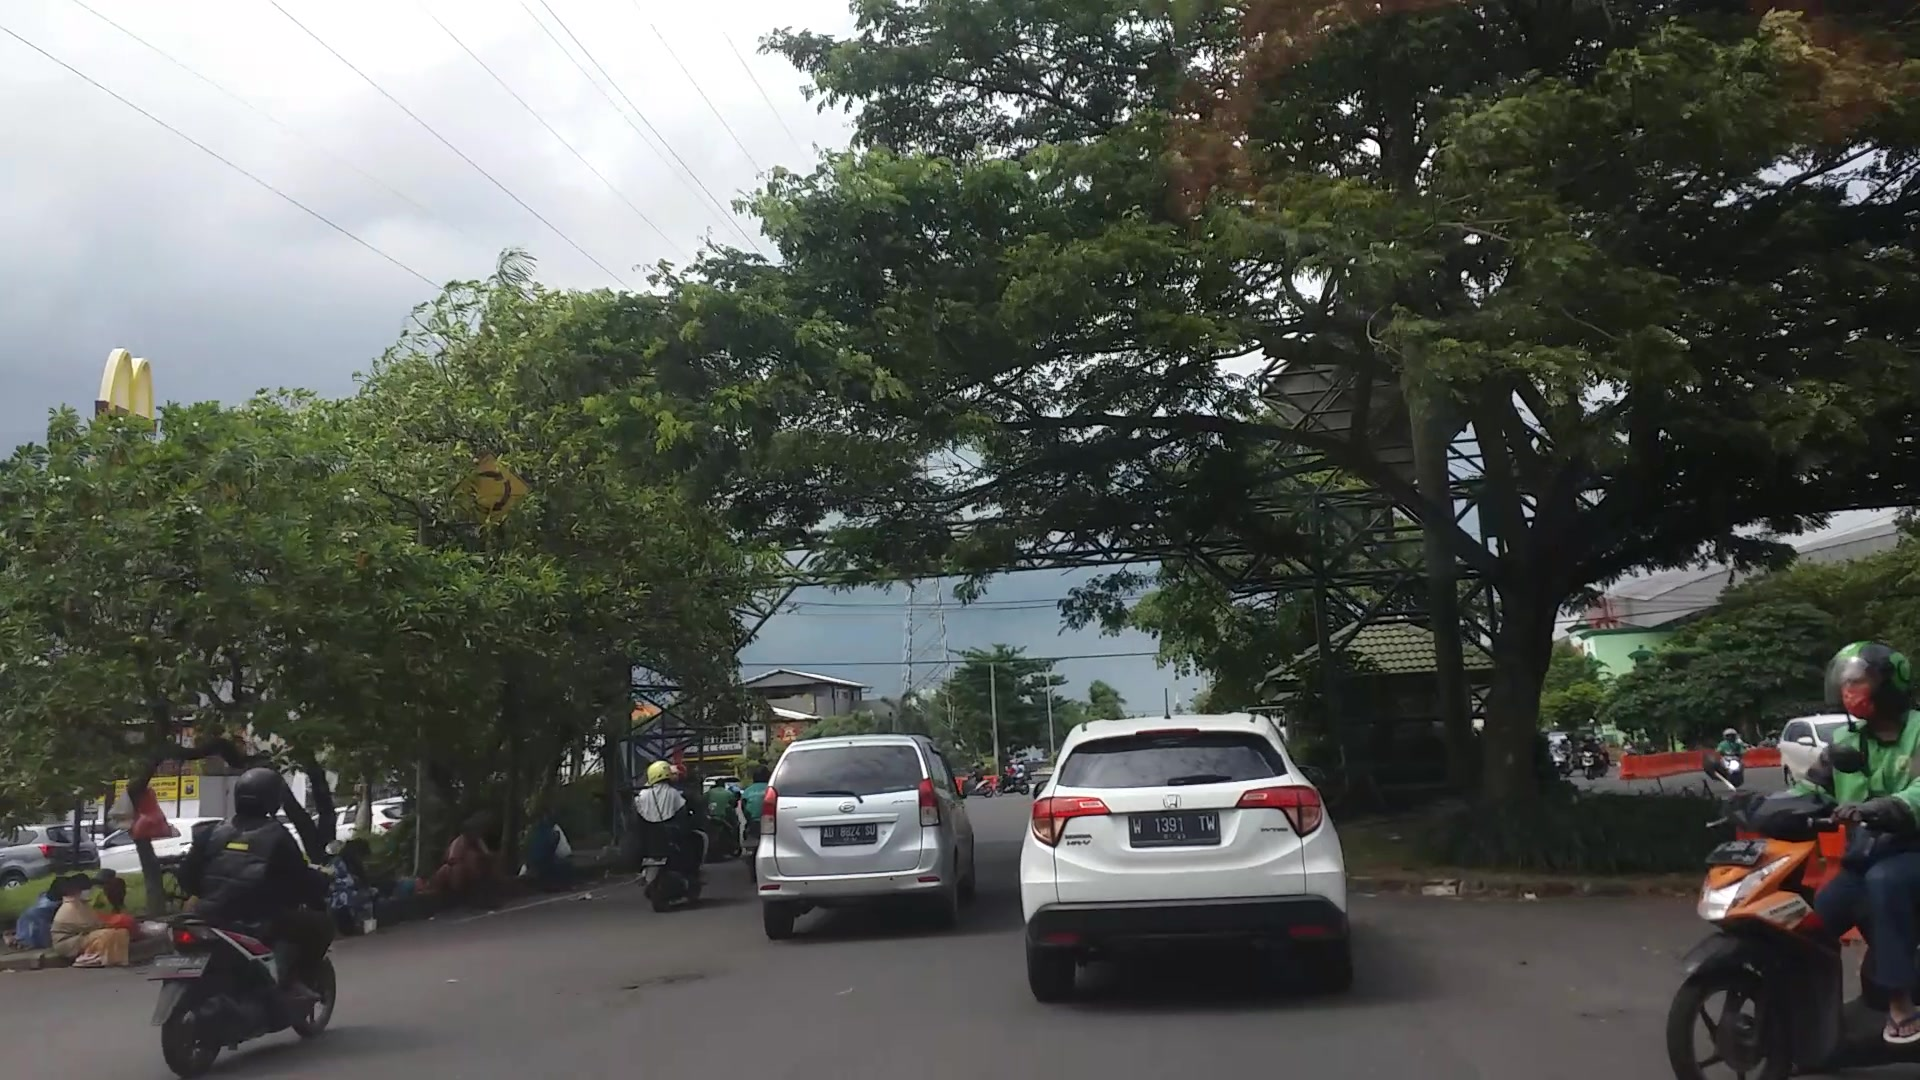plate_positive: (1129, 811, 1220, 845), (820, 825, 877, 847)
